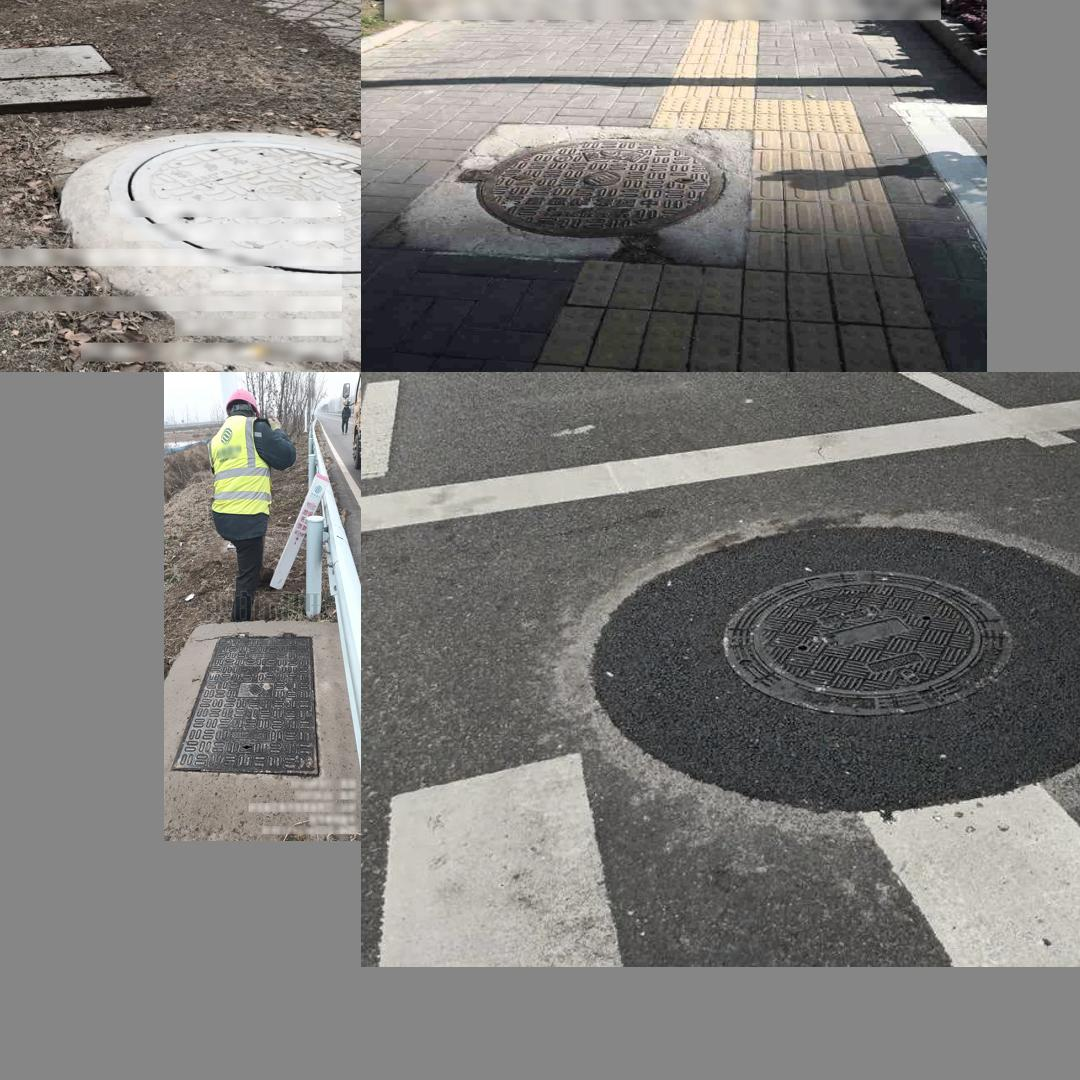good: (555, 493, 1080, 833), (116, 139, 360, 277), (452, 137, 723, 238), (170, 631, 319, 775)
uncovered: (0, 43, 150, 111)
